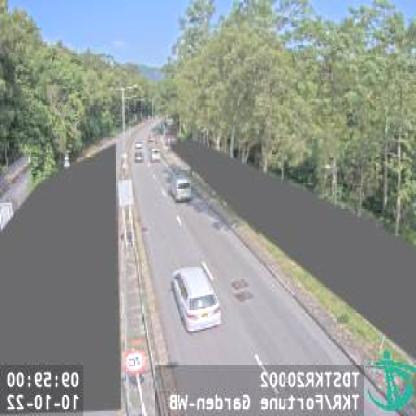Car: (172, 265, 224, 334), (167, 165, 192, 202), (150, 148, 158, 160)
